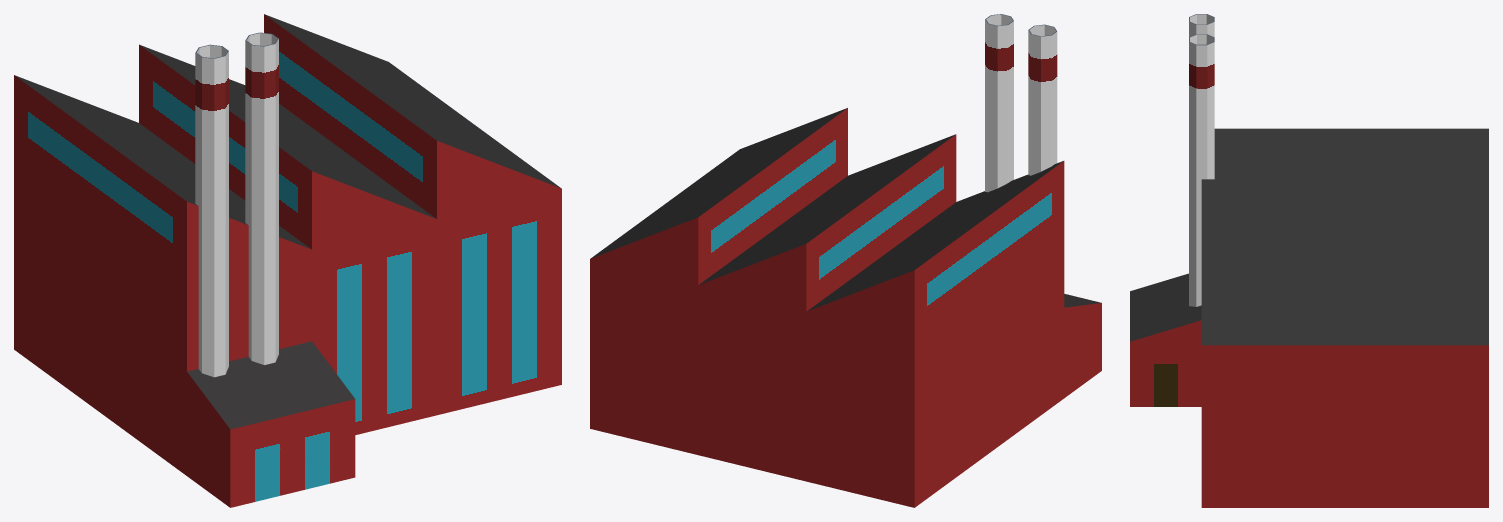
Rendered from factory.fbx.
3 views of the same model, side by side, from view 1: azimuth 30°, elevation 25°; view 2: azimuth 150°, elevation 25°; view 3: azimuth 270°, elevation 25° (orthographic). The views are drawn at different scales.
Visible parts, largest first — view 1: cube, cube_1, tube_1, tube; view 2: cube, tube_1, tube, cube_1; view 3: cube, cube_1, tube_1, tube.
Part boxes in pixels (x1,y1,x2,y2): cube: [14, 14, 561, 475]; cube_1: [187, 341, 355, 507]; tube_1: [245, 32, 278, 364]; tube: [195, 44, 228, 377]; cube: [590, 108, 1064, 507]; tube_1: [985, 14, 1013, 192]; tube: [1028, 24, 1057, 175]; cube_1: [1064, 294, 1101, 397]; cube: [1201, 128, 1488, 507]; cube_1: [1130, 273, 1201, 406]; tube_1: [1189, 34, 1214, 306]; tube: [1189, 14, 1214, 37].
Bounding box in the file's own units: 93.75 × 100 × 93.75.
1 material, 1 textured.
